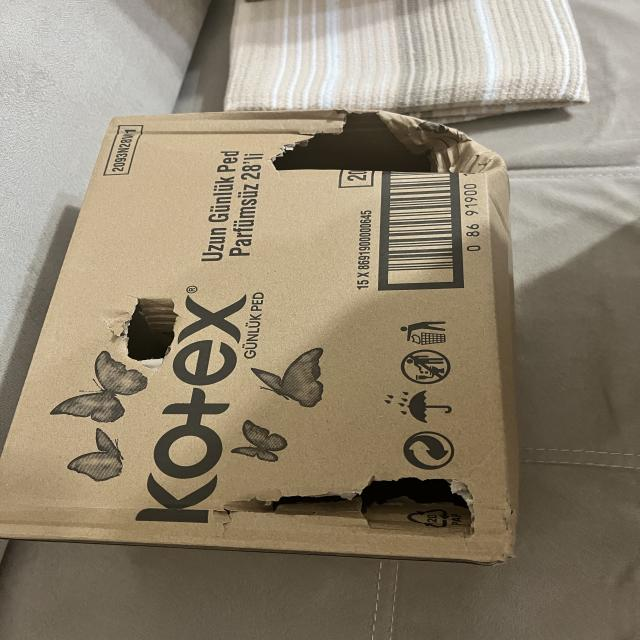damaged: (0, 111, 522, 561), (254, 94, 505, 198), (216, 462, 491, 547), (106, 281, 188, 386)
